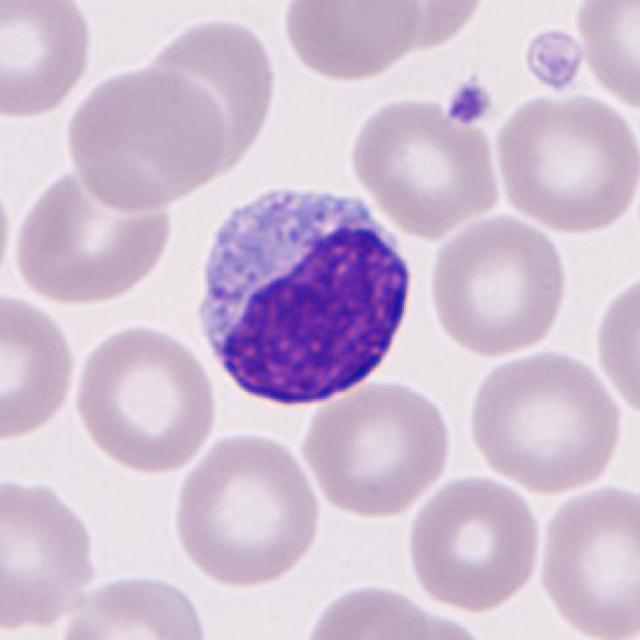Lymphocyte: (187, 173, 422, 418)
Platelets: (520, 26, 588, 95), (444, 78, 497, 127)
RBC: (168, 426, 325, 592), (59, 64, 228, 214), (462, 347, 628, 496), (70, 319, 222, 477), (10, 163, 176, 307), (344, 92, 506, 239), (140, 10, 281, 177), (297, 375, 455, 520), (490, 88, 638, 236), (425, 210, 572, 359), (402, 470, 546, 614), (533, 478, 639, 640), (0, 470, 100, 631), (0, 288, 80, 446), (295, 577, 494, 640), (0, 0, 98, 123), (279, 0, 423, 83), (51, 567, 213, 640), (572, 0, 640, 113), (591, 266, 638, 422), (358, 0, 492, 54), (378, 609, 502, 640), (0, 170, 14, 300)
